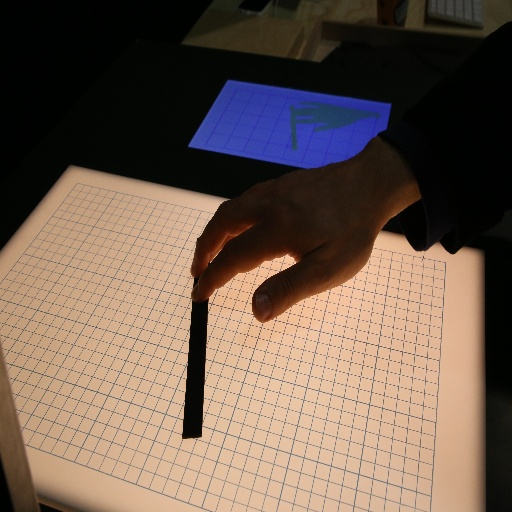hand: (194, 134, 434, 329)
